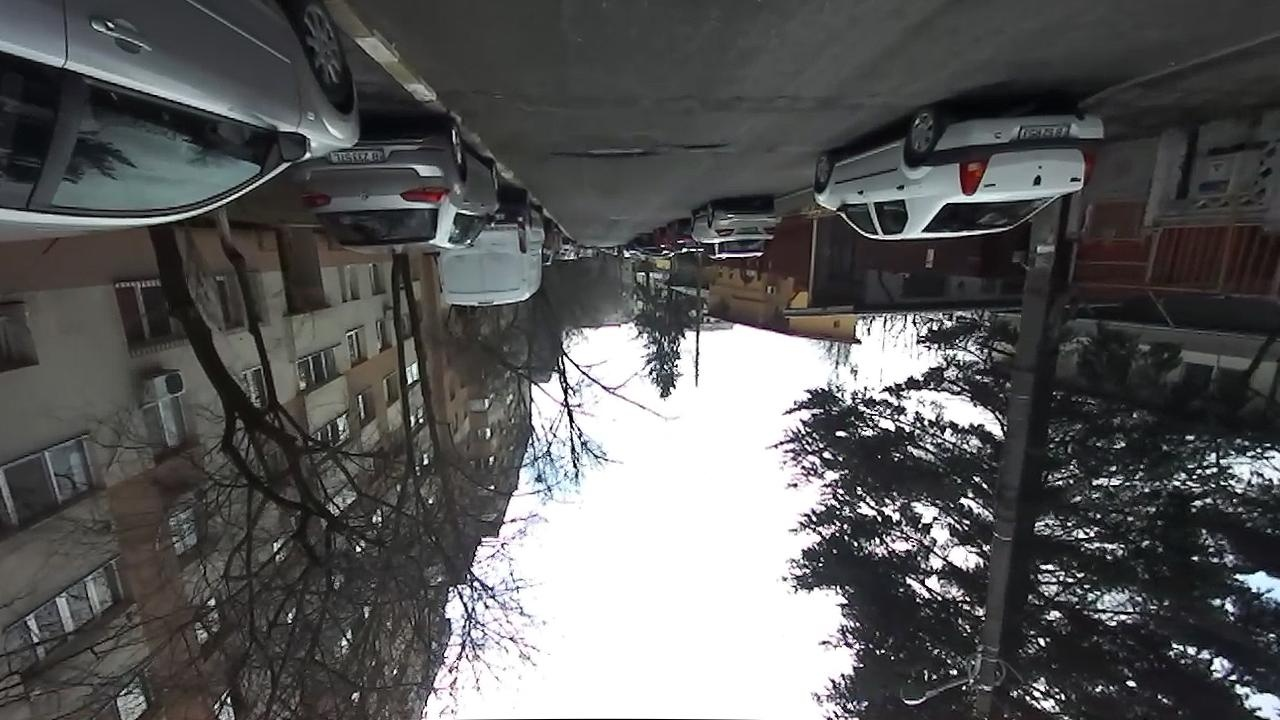pothole: (545, 141, 653, 162), (670, 139, 727, 152)
